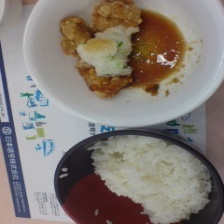rice: (85, 131, 215, 222)
